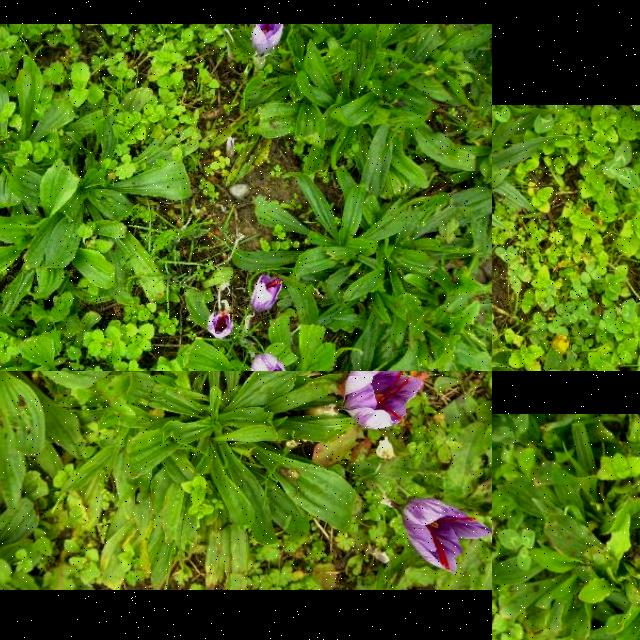flower: (401, 497, 492, 576), (342, 371, 423, 429), (250, 273, 284, 315), (252, 24, 284, 56), (207, 310, 235, 340), (249, 352, 287, 371)
